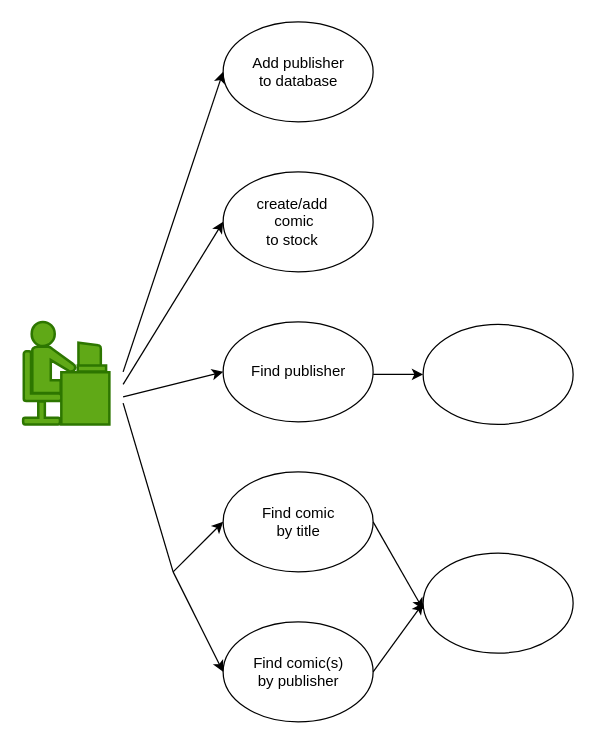
Image size: 595x744. Some labels were removed from this diagram. Each missing label, with the centre of its shape:
"remove/delete comic" goes at point (497, 602).
"remove/delete publisher" goes at point (497, 373).
